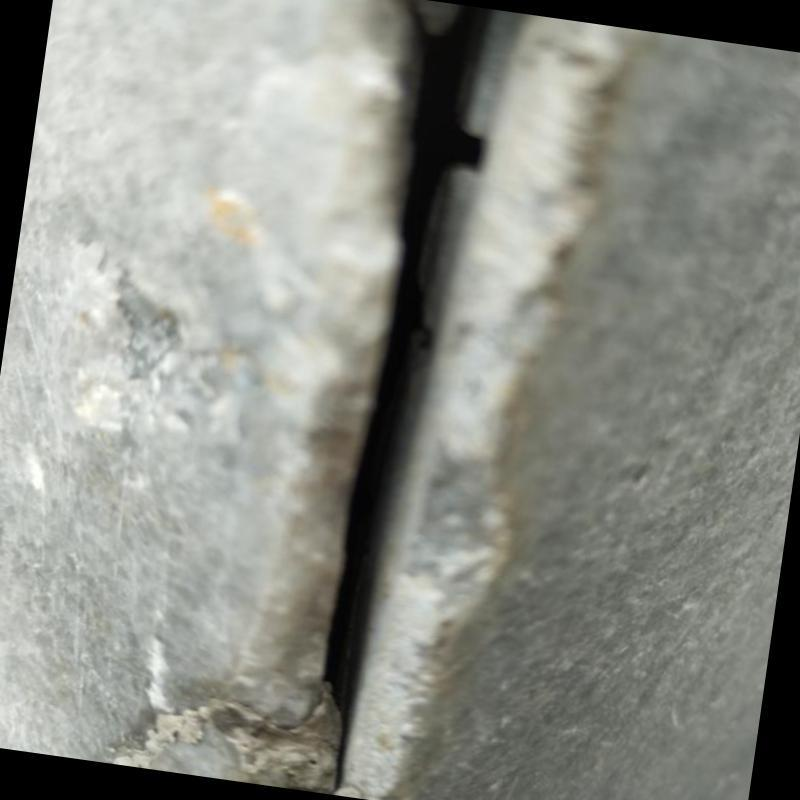pothole: (323, 0, 501, 783)
